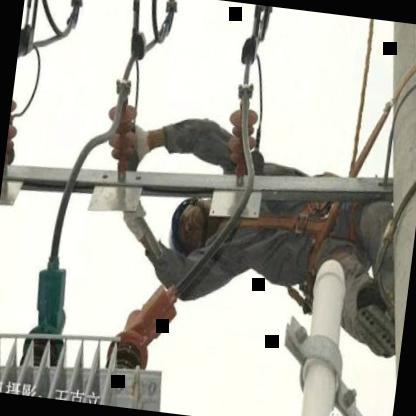helmet: (160, 190, 226, 260)
